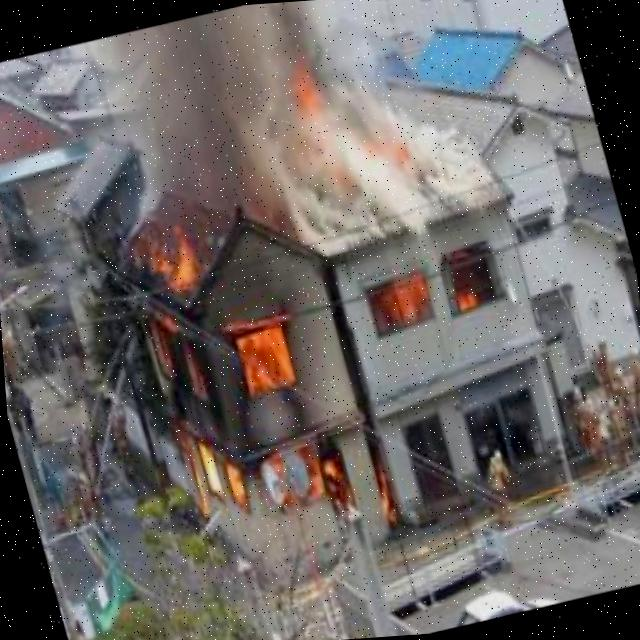fire: (86, 165, 353, 551), (349, 239, 515, 345), (287, 57, 324, 127)
